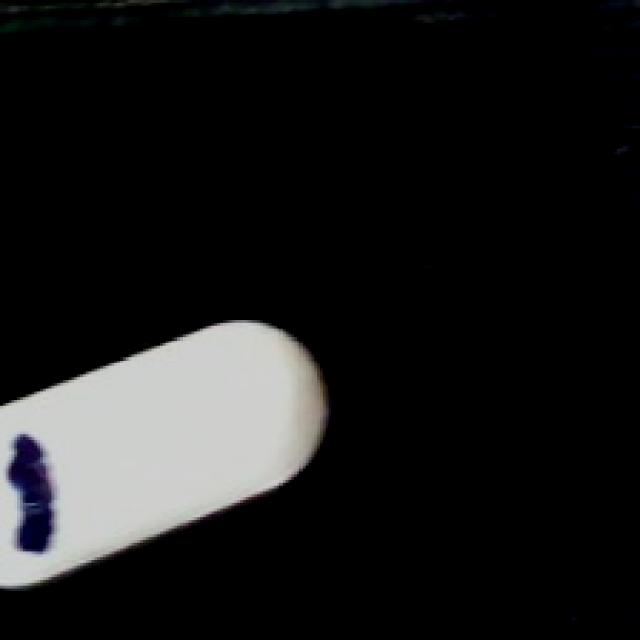defected: (0, 312, 340, 594)
